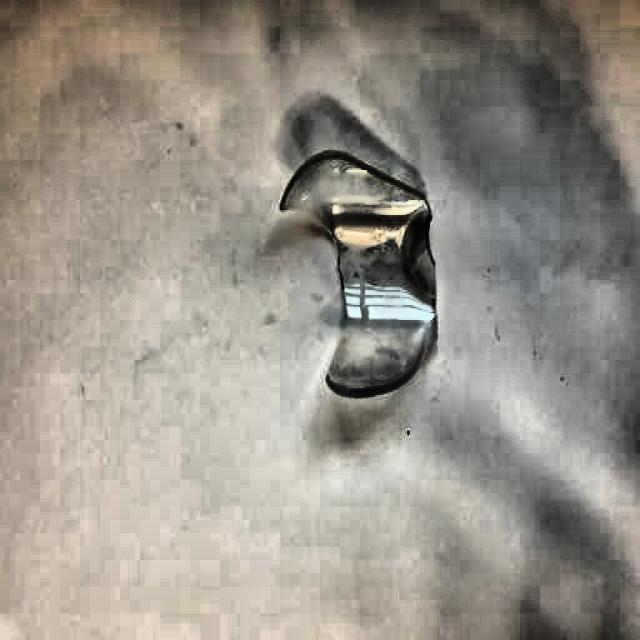glass: (272, 145, 445, 403)
